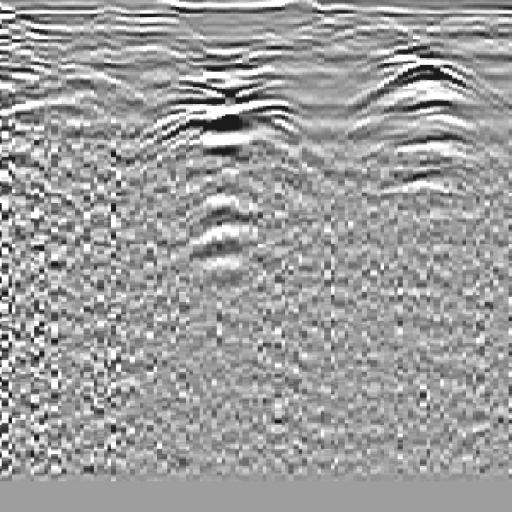metalic: (329, 41, 510, 226), (133, 36, 322, 204)
